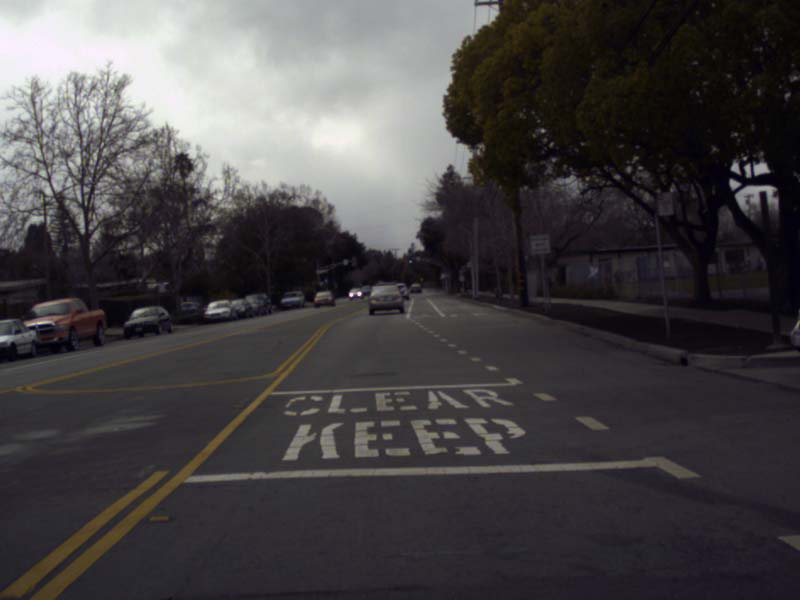Green: (324, 274, 329, 284), (408, 255, 412, 263)
